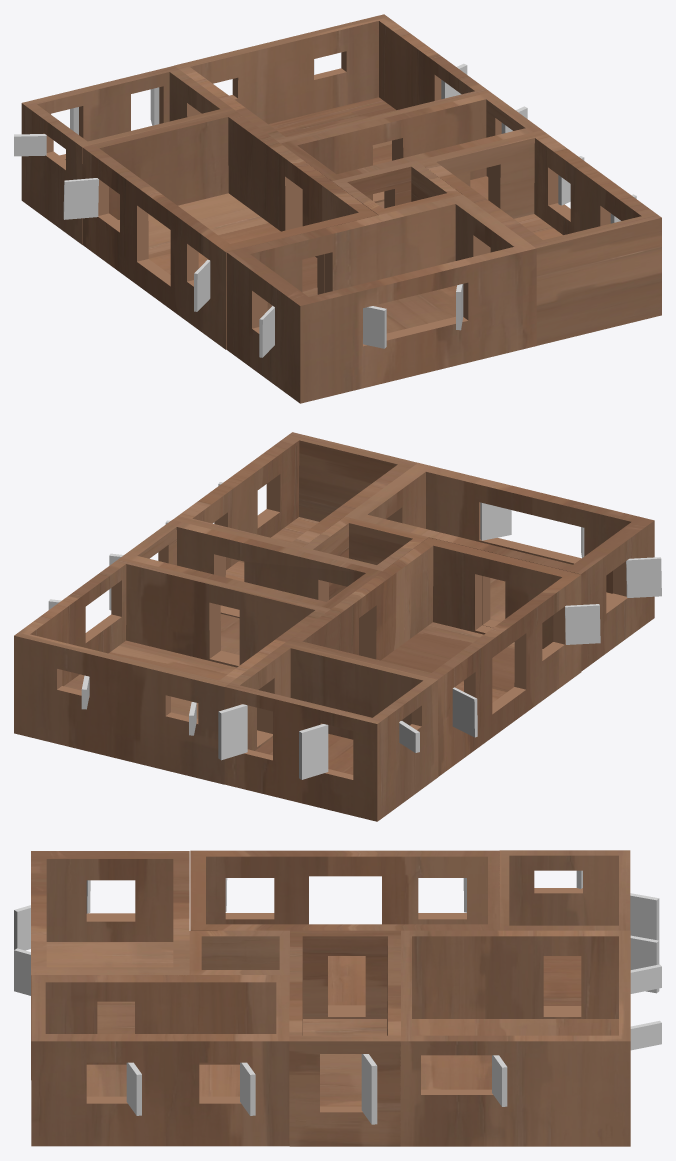
The model's file is MAPA.glb.
3 renders of one model, top to bottom at view 1: azimuth 30°, elevation 25°; view 2: azimuth 150°, elevation 25°; view 3: azimuth 270°, elevation 25°, orthographic. The views are drawn at different scales.
Parts seen in each view (by area): view 1: SUELO.002; view 2: SUELO.002; view 3: SUELO.002.
Part boxes in pixels (x1,y1,x2,y2): SUELO.002: (14,14,661,403); SUELO.002: (14,432,661,821); SUELO.002: (14,850,661,1146).
Bounding box in the file's own units: 82.23 × 18.47 × 103.
2 materials, 1 textured.
